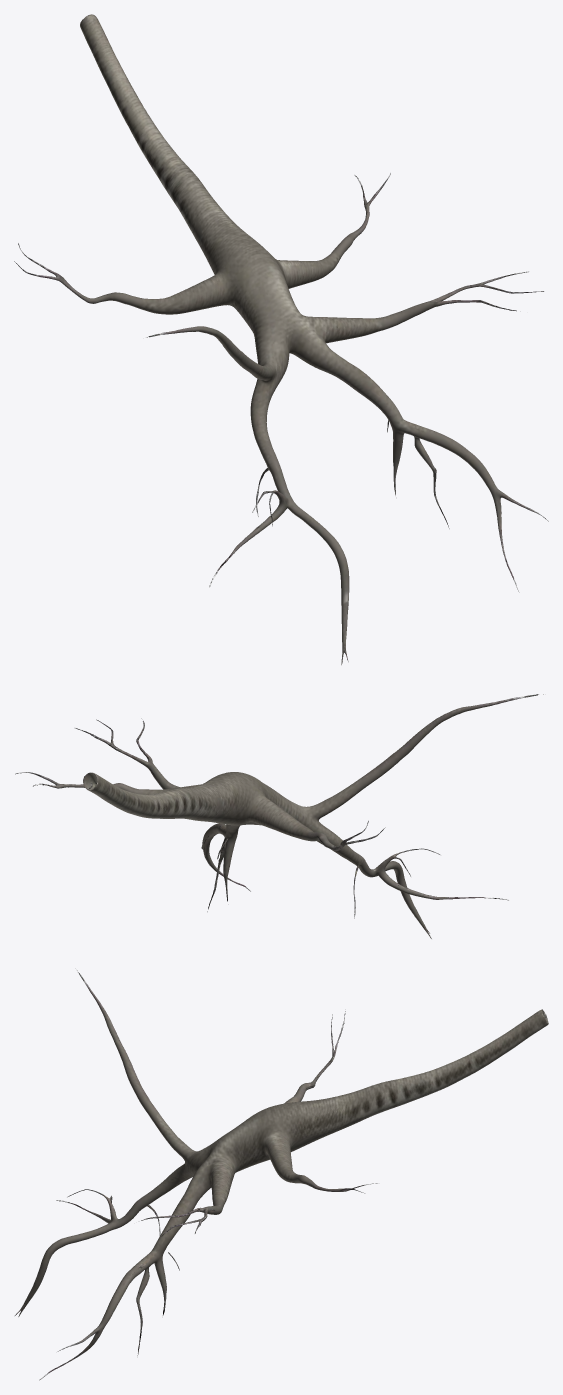
The model's file is neuron_cell.glb.
3 views of the same model, one above another, from view 1: azimuth 30°, elevation 25°; view 2: azimuth 150°, elevation 25°; view 3: azimuth 270°, elevation 25° (orthographic). The views are drawn at different scales.
Parts seen in each view (by area): view 1: model; view 2: model; view 3: model.
Boxes of the visible parts, x1=… form: model: x1=14, y1=14, x2=548, y2=665; model: x1=15, y1=694, x2=543, y2=938; model: x1=15, y1=970, x2=548, y2=1380.
Bounding box in the file's own units: 1.56 × 1.3 × 1.89.
Materials: 1 (1 with a texture image).
